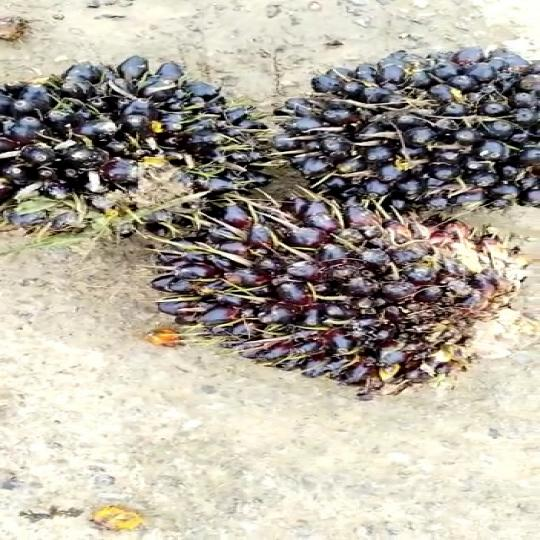mentah: (121, 186, 529, 402), (0, 36, 279, 230), (280, 29, 540, 236)
